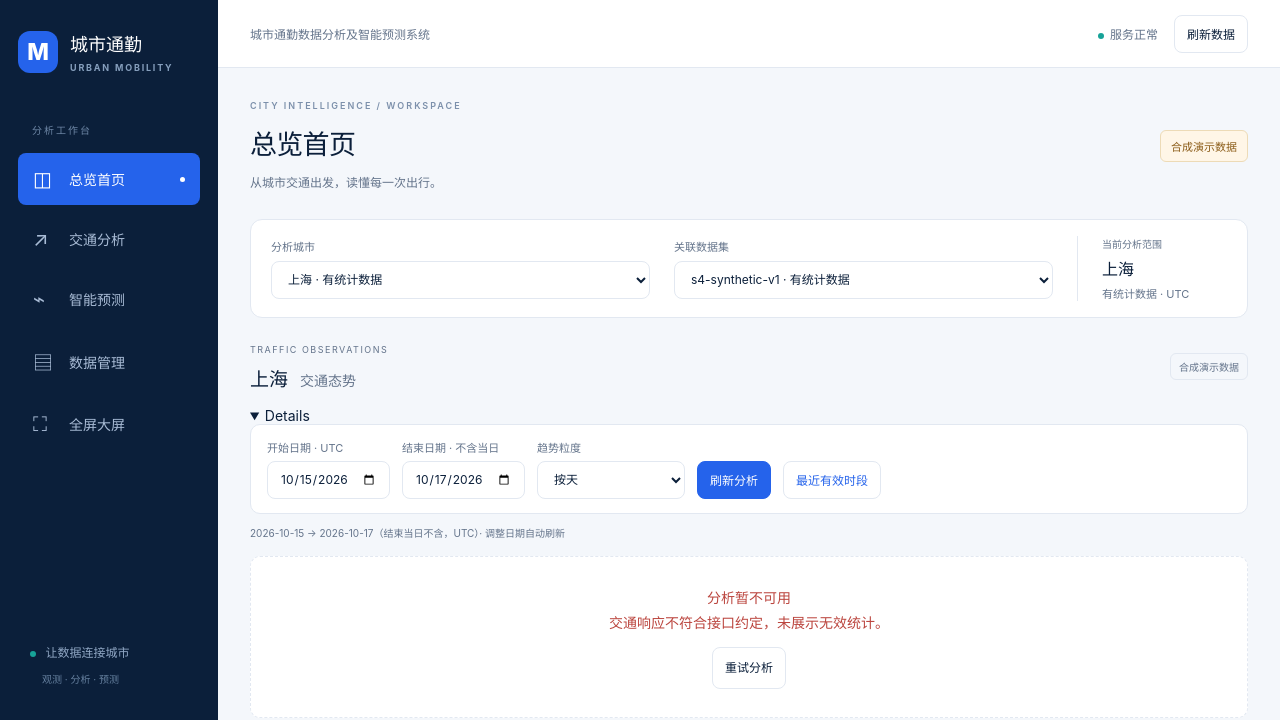
Test: workbench navigation and real metadata association › checks service every fifteen seconds without resetting a manual selection
Select "北京 · 仅目录登记 · 暂无数据" in the dropdown named "城市选择" at coordinates (460, 280), box [271, 261, 650, 299]
Wait 15000 ms
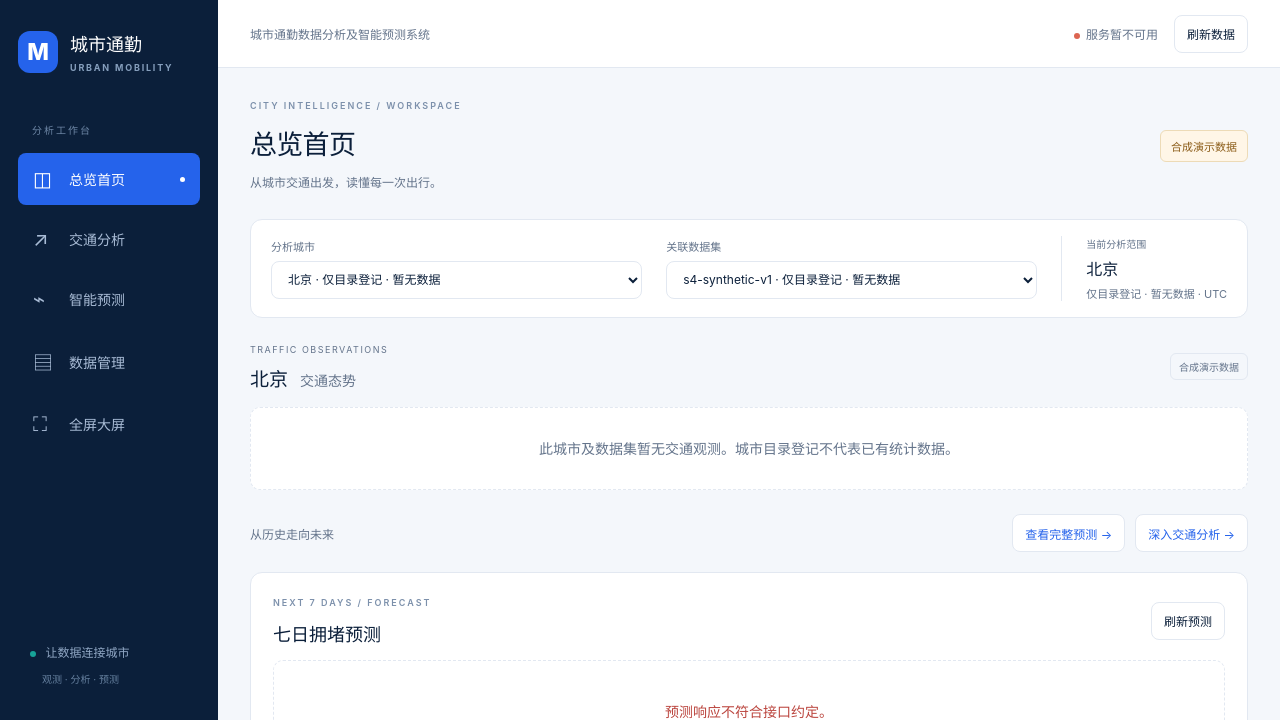
Result: the text "服务暂不可用" is shown at [1074, 25, 1158, 42]
